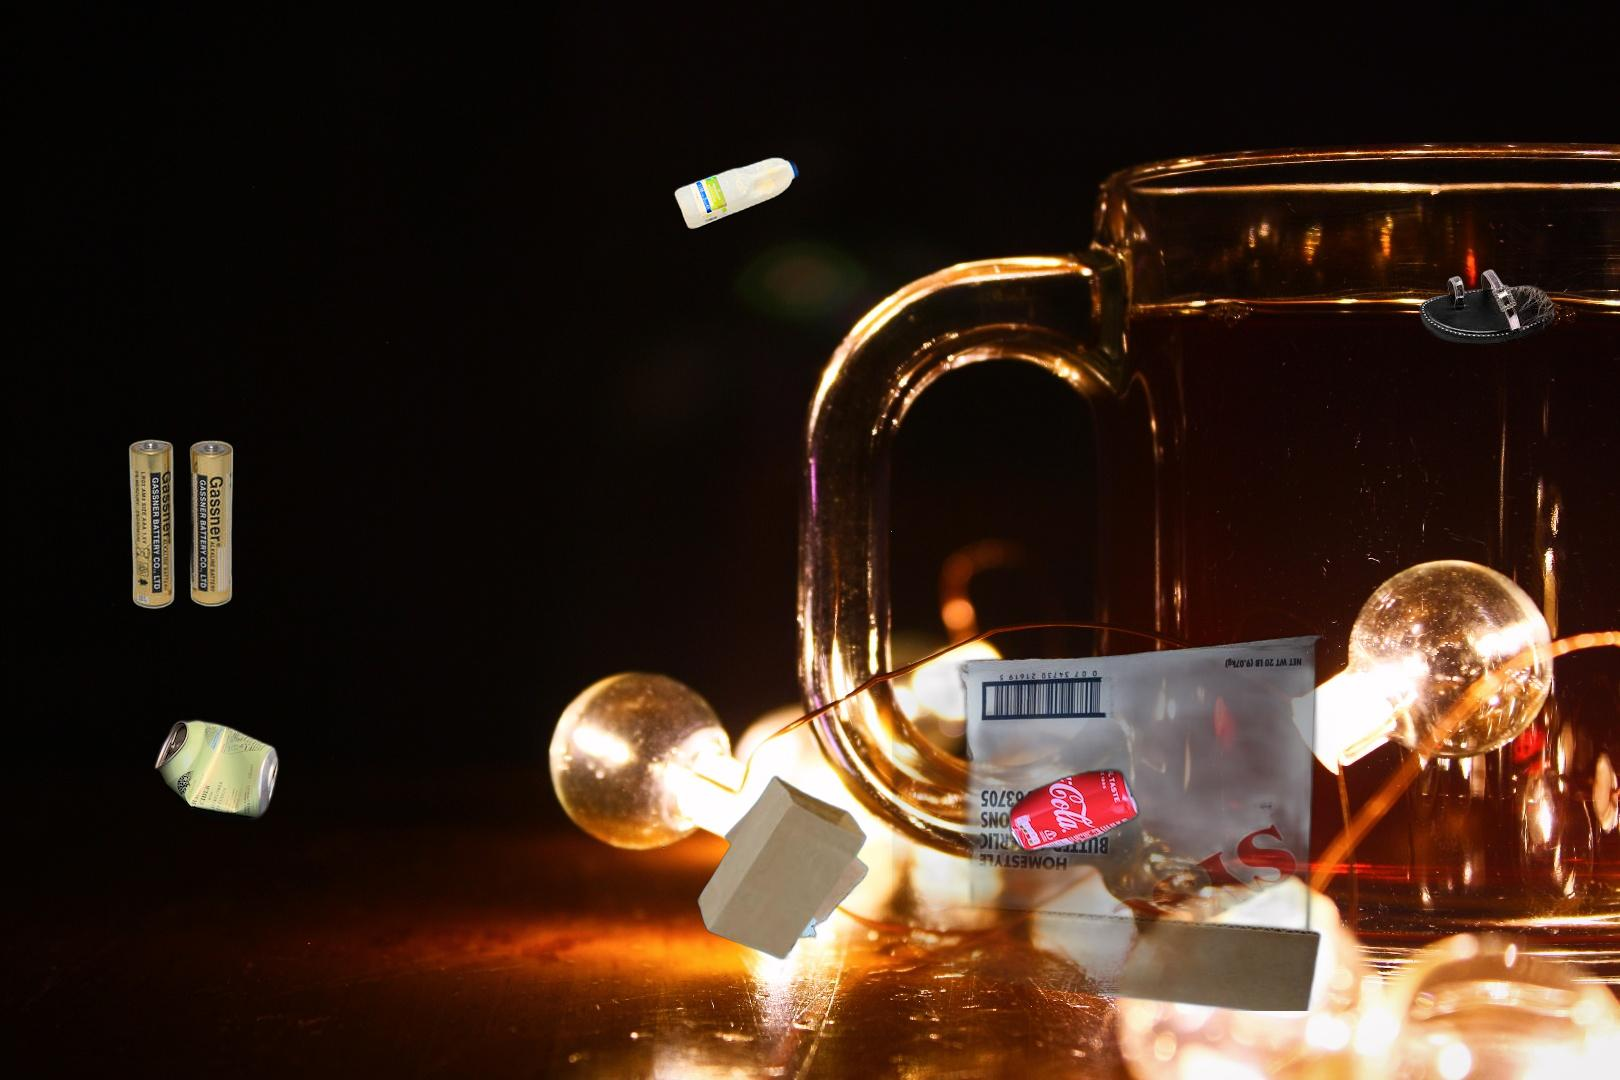battery: (127, 438, 235, 635)
metal-cans: (149, 714, 283, 829), (1004, 763, 1144, 857)
paper-bag: (694, 773, 884, 976)
plastic-bottles: (669, 151, 804, 235)
shoes: (1417, 237, 1620, 347)
trashbox-cardboard: (892, 627, 1348, 1011)
